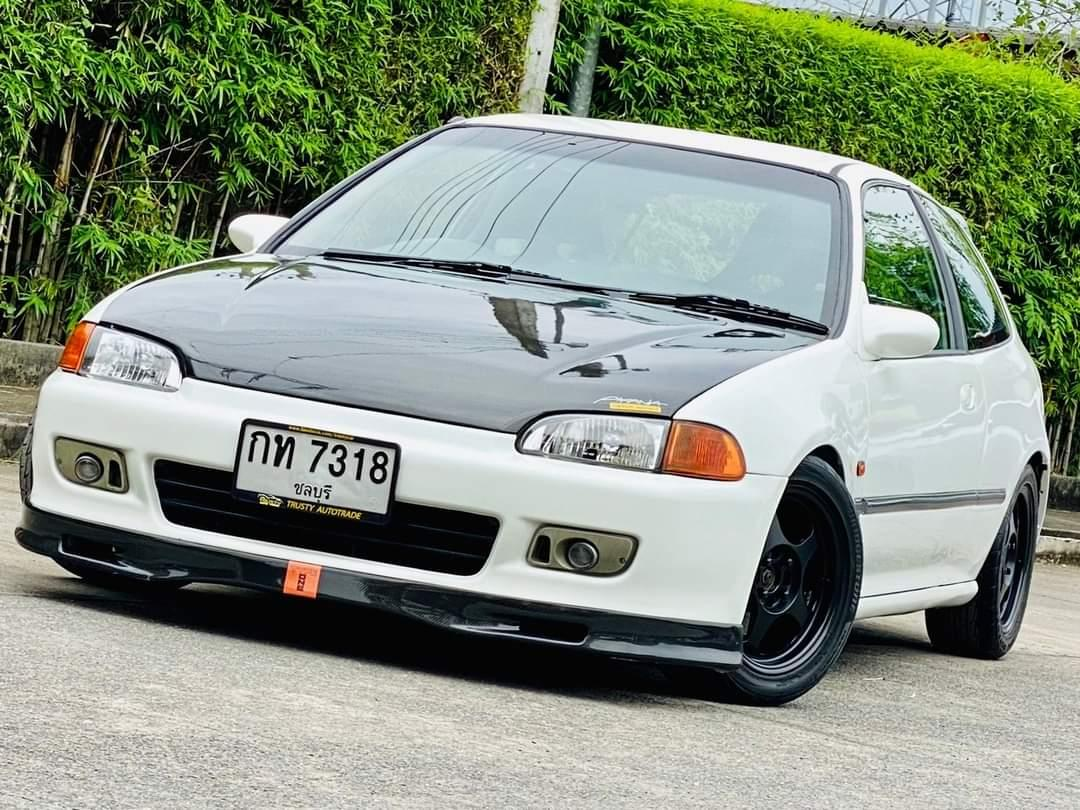license-plate: (230, 410, 405, 526)
